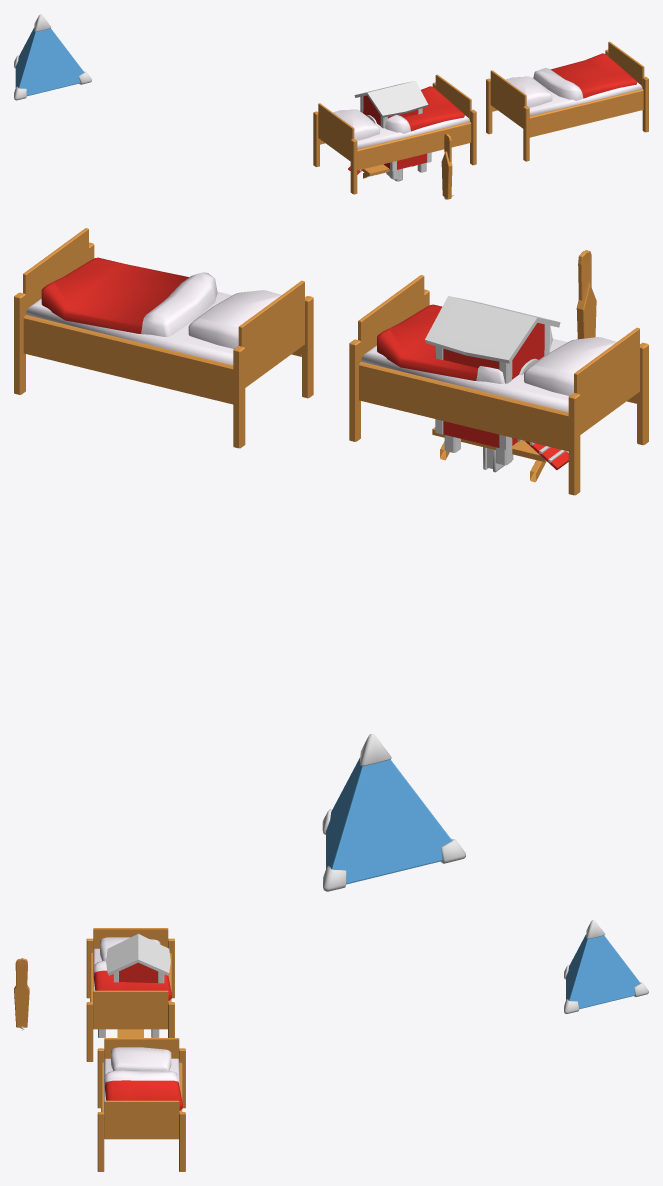
File: env_chickencoop.fbx
3 views of the same model, one above another, from view 1: azimuth 30°, elevation 25°; view 2: azimuth 150°, elevation 25°; view 3: azimuth 270°, elevation 25° (orthographic). The views are drawn at different scales.
Parts seen in each view (by area): view 1: env_bed.001, env_bed, Pyramid.001, env_chickencoop, env_plank02.001; view 2: env_bed.001, env_bed, Pyramid.001, env_chickencoop; view 3: env_bed.001, env_bed, Pyramid.001, env_chickencoop, env_plank01.001.
Part boxes in pixels (box(x1,y1,x2,y2)): env_bed.001: box(486, 41, 648, 161); env_bed: box(313, 74, 476, 194); Pyramid.001: box(14, 14, 91, 100); env_chickencoop: box(348, 81, 431, 179); env_plank02.001: box(441, 151, 452, 199); env_bed.001: box(14, 228, 313, 448); env_bed: box(349, 275, 648, 495); Pyramid.001: box(322, 734, 465, 891); env_chickencoop: box(425, 296, 568, 469); env_bed.001: box(97, 1038, 185, 1171); env_bed: box(86, 928, 174, 1061); Pyramid.001: box(564, 920, 648, 1014); env_chickencoop: box(98, 933, 170, 1037); env_plank01.001: box(15, 958, 27, 1027).
Size of the model in its own units: 658 by 170 by 789.
